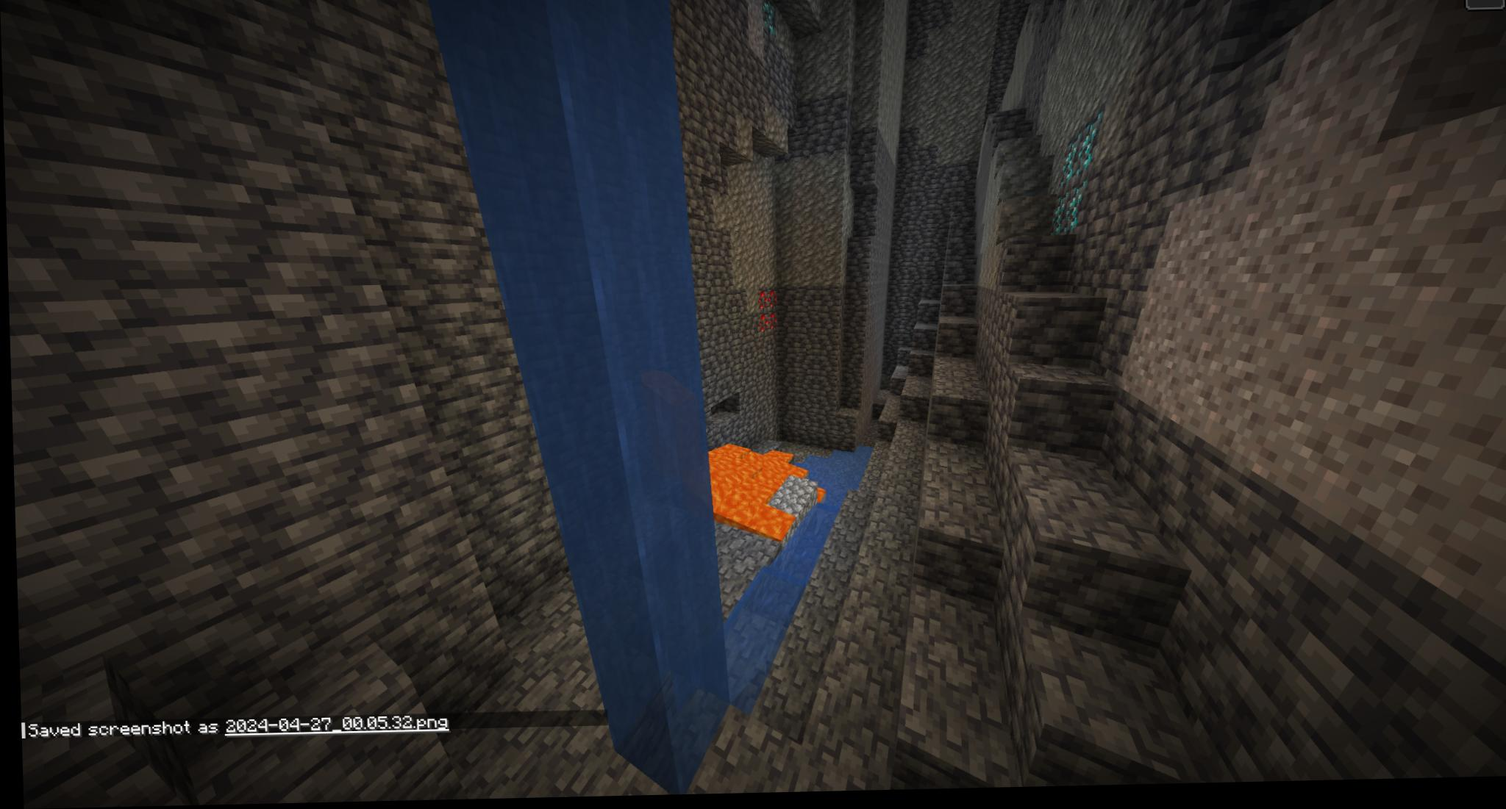diamond ore: (1053, 140, 1097, 241)
redstone ore: (757, 294, 776, 334)
